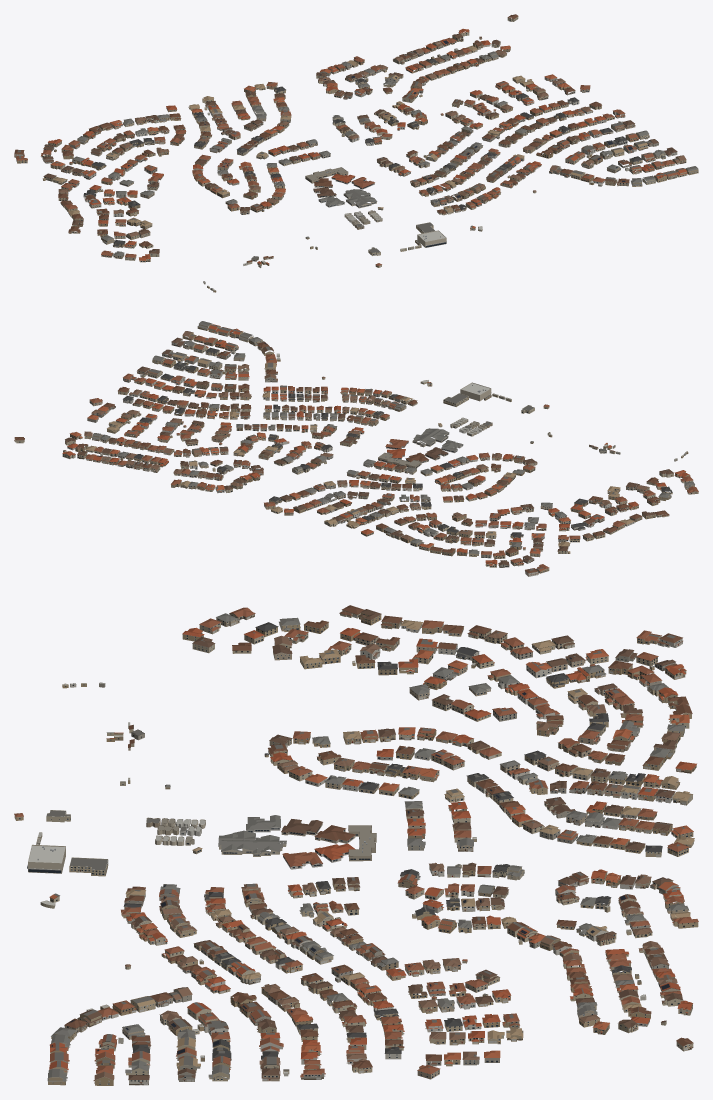
3 renders of one model, top to bottom at view 1: azimuth 30°, elevation 25°; view 2: azimuth 150°, elevation 25°; view 3: azimuth 270°, elevation 25°, orthographic. The views are drawn at different scales.
Visible parts, largest first — view 1: buildings_r5_c4_lod0; view 2: buildings_r5_c4_lod0; view 3: buildings_r5_c4_lod0.
Part boxes in pixels (x1,y1,x2,y2): buildings_r5_c4_lod0: (14, 14, 698, 292); buildings_r5_c4_lod0: (14, 321, 698, 576); buildings_r5_c4_lod0: (14, 605, 698, 1085).
Bounding box in the file's own units: 1142 × 63.61 × 712.
